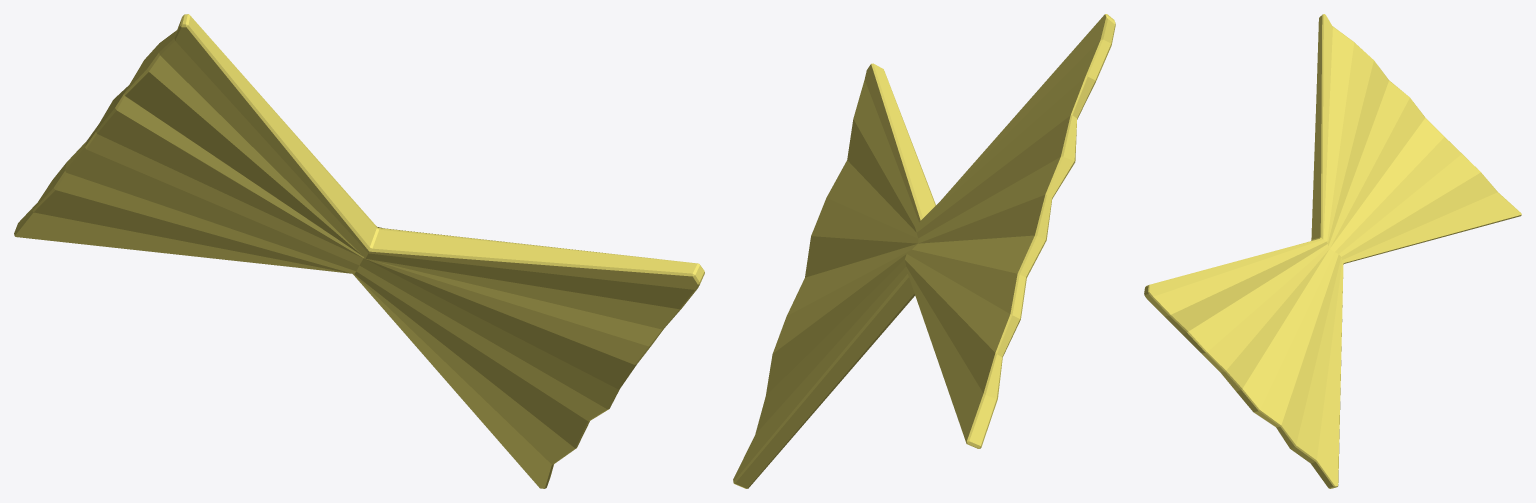
3 renders of one model, left to right at view 1: azimuth 30°, elevation 25°; view 2: azimuth 150°, elevation 25°; view 3: azimuth 270°, elevation 25°, orthographic. The views are drawn at different scales.
Parts seen in each view (by area): view 1: Plane.009; view 2: Plane.009; view 3: Plane.009.
Boxes of the visible parts, bbox=[...] form: Plane.009: bbox=[14, 14, 704, 488]; Plane.009: bbox=[733, 14, 1115, 488]; Plane.009: bbox=[1144, 14, 1521, 488].
Size of the model in its own units: 0.6588 by 0.8849 by 0.837.
